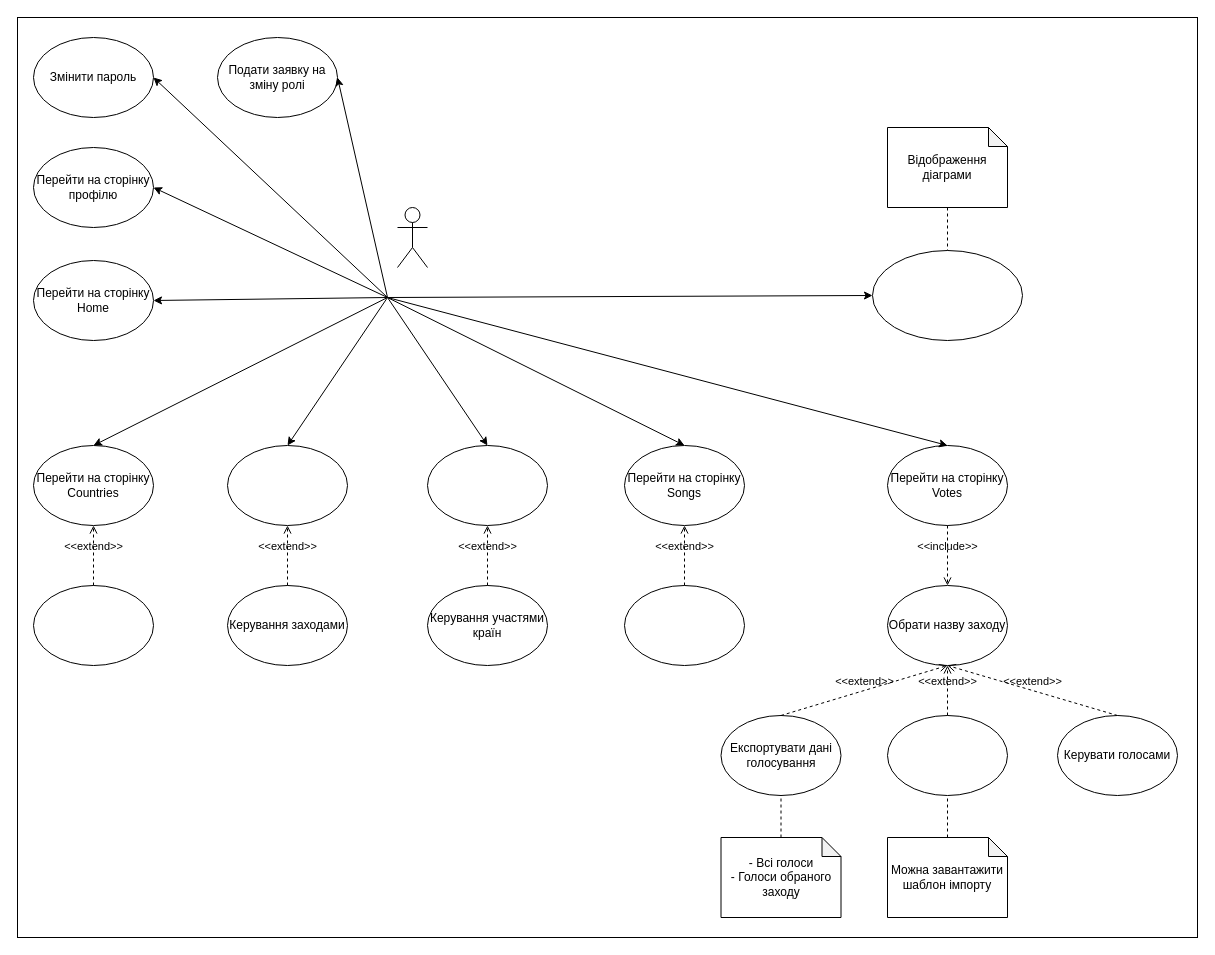
This 1215x955 diagram has some shape labels left out. Here are the shapes that lost their labels. From the top down, the centre of each, then its label:
At point 412,237: "Admin".
At point 947,295: "Проголосувати чи погоджуюся з минулим переможцем Євробачення".
At point 287,485: "Перейти на сторінку Events".
At point 487,485: "Перейти на сторінку Participations".
At point 93,625: "Керування країнами".
At point 684,625: "Керування піснями".
At point 947,755: "Імпортувати дані голосування".
